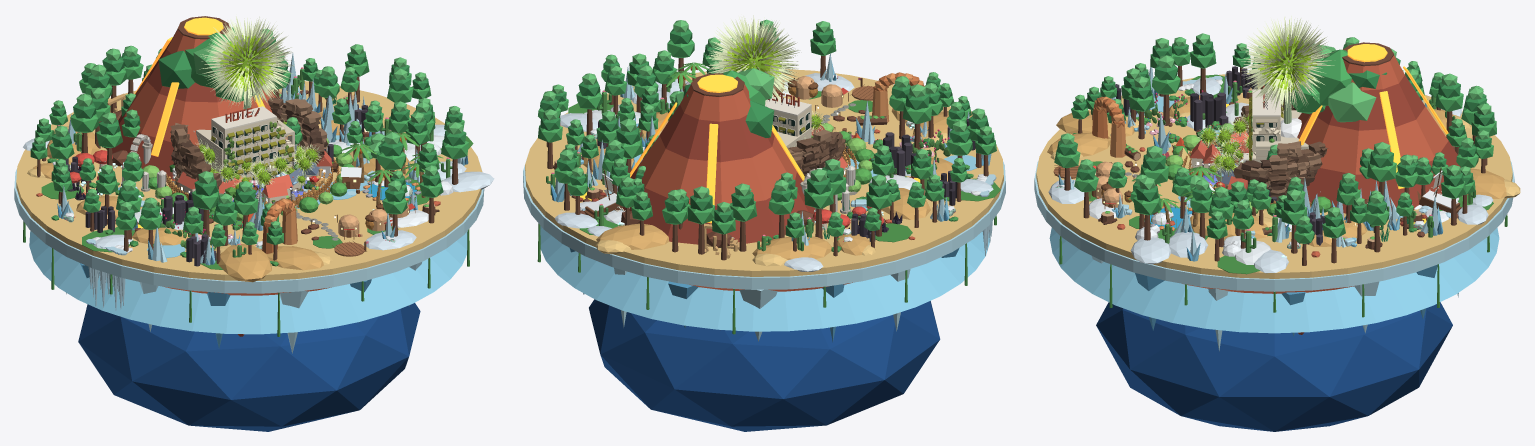
File: far.glb
3 renders of one model, left to right at view 1: azimuth 30°, elevation 25°; view 2: azimuth 150°, elevation 25°; view 3: azimuth 270°, elevation 25°, orthographic. The views are drawn at different scales.
Parts seen in each view (by area): view 1: IG2_Water, IG2_Bulb, IE_Top, IG2_Ice, IPm_tip, Ember_Volcano_at15_EV_L1, IPm_head, IPv_rock, IR_wall, IPm_core, Ember_Dune_at76_ED_Dune, IR_frame (+21 smaller); view 2: IG2_Water, IG2_Bulb, IE_Top, IG2_Ice, Ember_Volcano_at15_EV_L1, Ember_Volcano_at15_EV_L2, IPm_tip, Ember_Volcano_at15_EV_L0, Ember_Volcano_at15_EV_L3, Ember_Dune_at68_ED_Dune, IPm_head, Ember_Dune_at74_ED_Dune (+13 smaller); view 3: IG2_Water, IG2_Bulb, IE_Top, IG2_Ice, IPm_tip, Ember_Volcano_at15_EV_L1, Ember_Volcano_at15_EV_L0, Ember_Volcano_at15_EV_L2, IPm_head, IPv_rock, Wood_GiantTree_at31_WG_Crown1, Wood_GiantTree_at31_WG_Crown0 (+24 smaller).
Boxes of the visible parts, bbox=[...] form: IG2_Water: bbox=[78, 303, 420, 431]; IG2_Bulb: bbox=[29, 231, 467, 334]; IE_Top: bbox=[16, 81, 482, 280]; IG2_Ice: bbox=[14, 163, 484, 293]; IPm_tip: bbox=[195, 16, 323, 188]; Ember_Volcano_at15_EV_L1: bbox=[124, 69, 276, 144]; IPm_head: bbox=[198, 34, 318, 188]; IPv_rock: bbox=[170, 97, 324, 189]; IR_wall: bbox=[211, 118, 294, 182]; IPm_core: bbox=[200, 43, 316, 189]; Ember_Dune_at76_ED_Dune: bbox=[218, 243, 271, 282]; IR_frame: bbox=[211, 106, 293, 181]; IG2_Water: bbox=[589, 299, 940, 431]; IG2_Bulb: bbox=[540, 226, 989, 331]; IE_Top: bbox=[525, 69, 1003, 276]; IG2_Ice: bbox=[523, 155, 1005, 289]; Ember_Volcano_at15_EV_L1: bbox=[636, 135, 796, 205]; Ember_Volcano_at15_EV_L2: bbox=[659, 104, 774, 162]; IPm_tip: bbox=[705, 15, 826, 146]; Ember_Volcano_at15_EV_L0: bbox=[622, 169, 815, 244]; Ember_Volcano_at15_EV_L3: bbox=[680, 84, 750, 121]; Ember_Dune_at68_ED_Dune: bbox=[596, 223, 669, 249]; IPm_head: bbox=[723, 33, 822, 129]; Ember_Dune_at74_ED_Dune: bbox=[752, 236, 831, 259]; IG2_Water: bbox=[1096, 302, 1452, 431]; IG2_Bulb: bbox=[1049, 227, 1499, 333]; IE_Top: bbox=[1036, 73, 1512, 278]; IG2_Ice: bbox=[1034, 161, 1514, 291]; IPm_tip: bbox=[1197, 16, 1334, 176]; Ember_Volcano_at15_EV_L1: bbox=[1297, 106, 1448, 174]; Ember_Volcano_at15_EV_L0: bbox=[1306, 141, 1460, 213]; Ember_Volcano_at15_EV_L2: bbox=[1317, 75, 1425, 130]; IPm_head: bbox=[1201, 34, 1317, 172]; IPv_rock: bbox=[1233, 104, 1327, 200]; Wood_GiantTree_at31_WG_Crown1: bbox=[1328, 82, 1376, 122]; Wood_GiantTree_at31_WG_Crown0: bbox=[1306, 49, 1351, 105].
Bounding box in the file's own units: 72.75 × 65.04 × 73.48.
